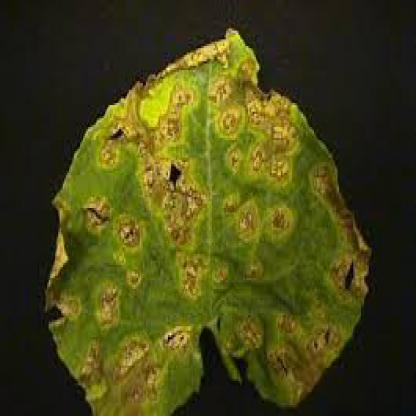Anthracnose: (194, 158, 374, 396), (116, 40, 336, 221), (38, 173, 194, 412)
